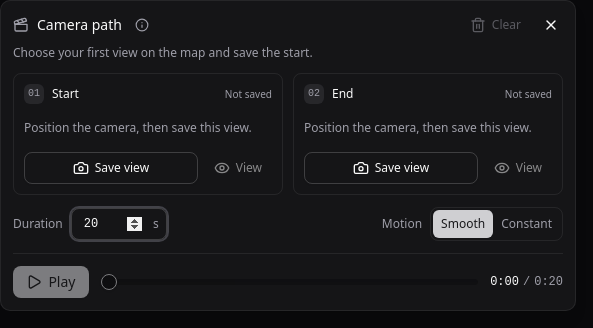
Test: the camera path bar › commits a duration on Enter, clamps its range and restores empty or cancelled edits
Replace the text in the number field named "Duration in seconds" with "450.5" at (119, 224), box [71,208,167,240]
Press Enter in the number field named "Duration in seconds", box [71,208,167,240]
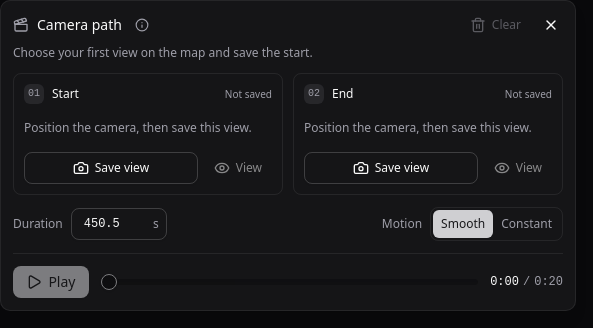
Replace the text in the number field named "Duration in seconds" with "999" at (119, 224), box [71,208,167,240]
Replace the text in the number field named "Duration in seconds" with "0" at (119, 224), box [71,208,167,240]
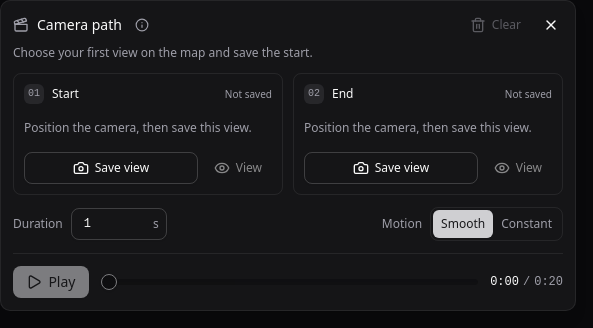
Clear the number field named "Duration in seconds" at (119, 224), box [71,208,167,240]
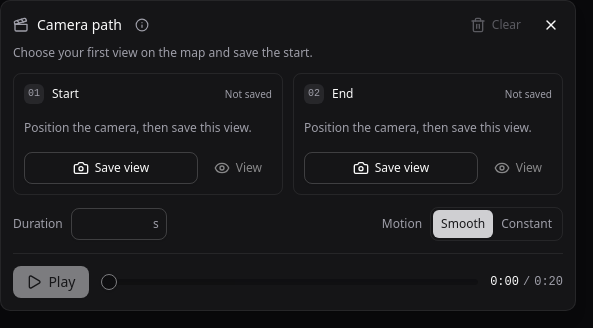
Leave the number field named "Duration in seconds", box [71,208,167,240]
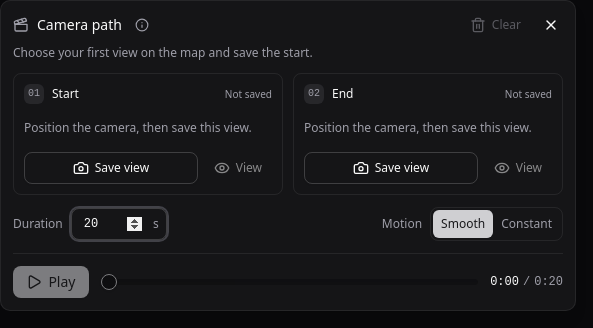
Now the number field named "Duration in seconds" holds "20"
Replace the text in the number field named "Duration in seconds" with "72" at (119, 224), box [71,208,167,240]
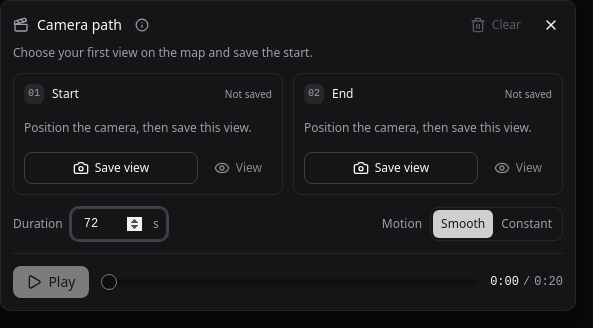
Press Escape in the number field named "Duration in seconds", box [71,208,167,240]
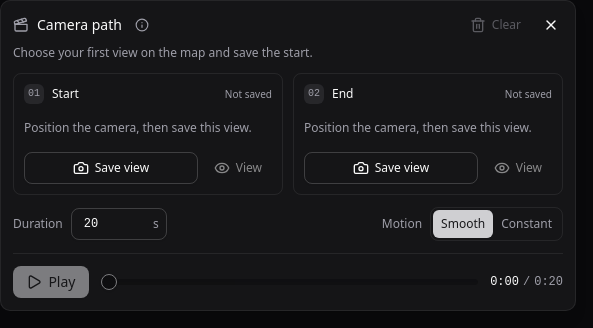
Now the number field named "Duration in seconds" holds "20", box [71,208,167,240]
